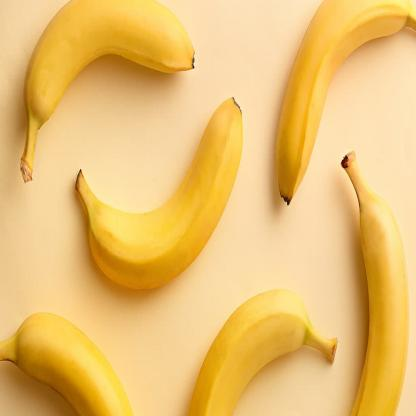banana: (72, 99, 253, 305), (11, 0, 199, 183), (273, 1, 416, 212), (170, 276, 337, 416), (326, 153, 416, 412), (1, 296, 131, 415)
